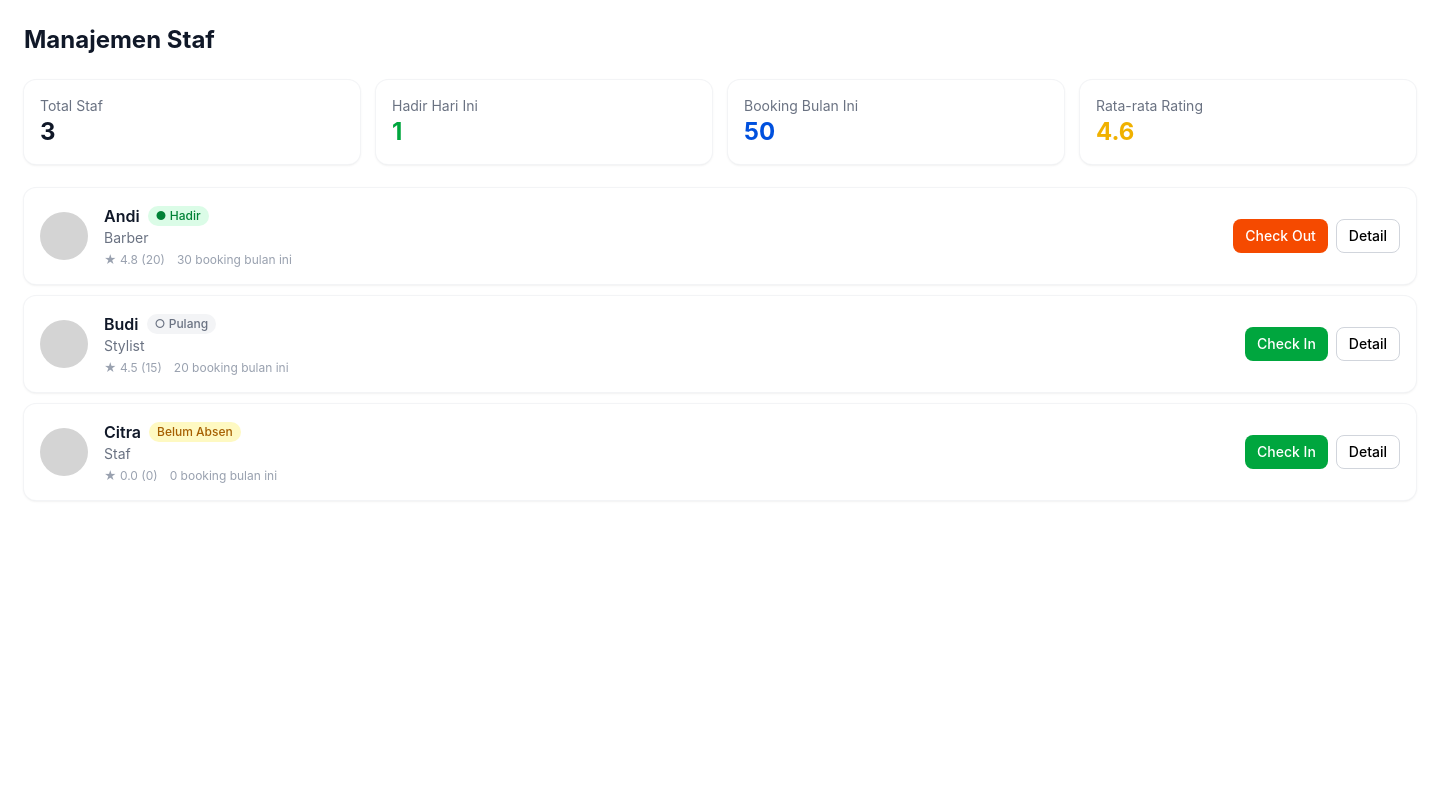
it: StaffManagementSuitePage › detail button collapses on second click
This screenshot has width=1440, height=810.
Check: the heading "Andi" is shown, box [104,204,140,228]
Click the button "Detail" in the row of "● Hadir".
click(1368, 236)  # box [1336,219,1400,253]
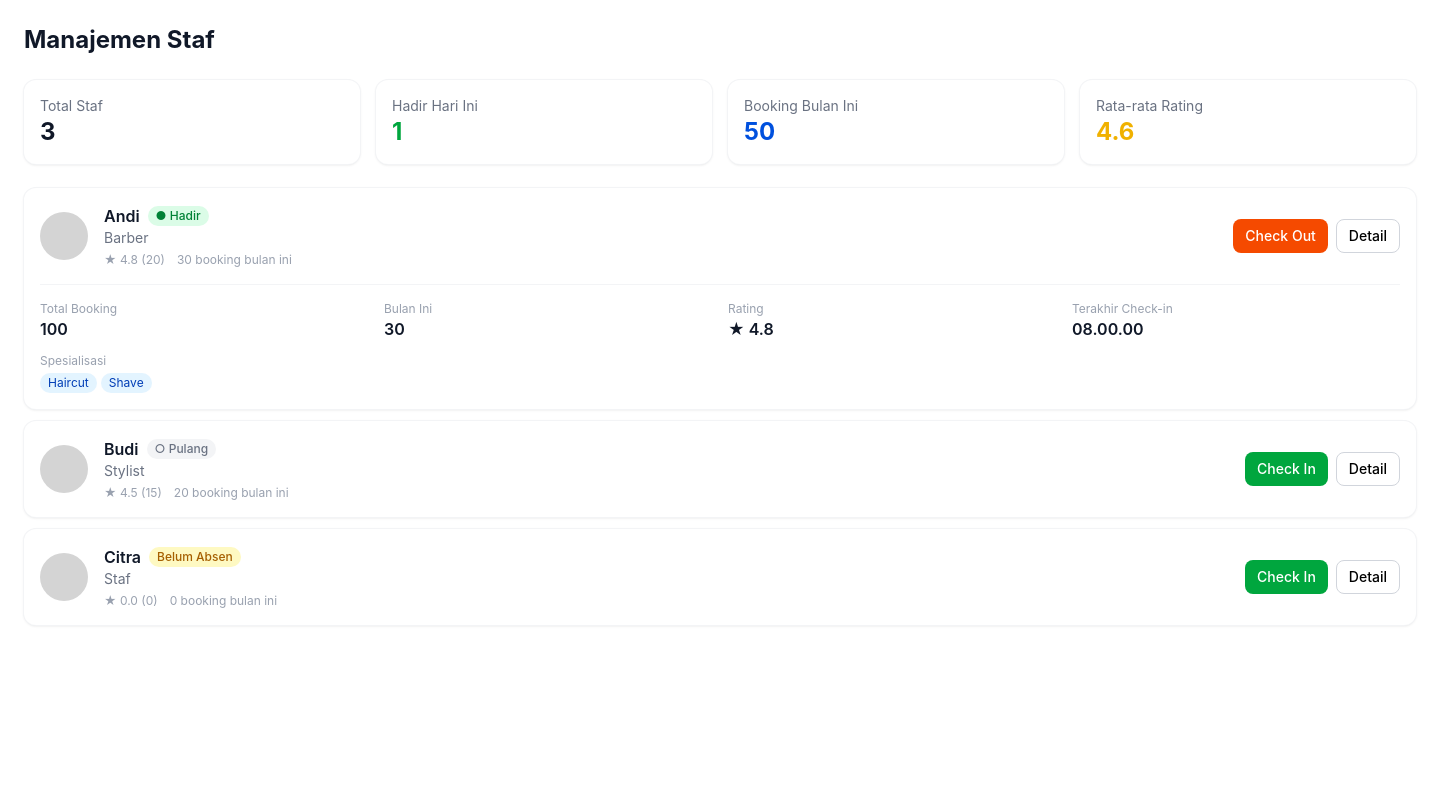
Check: the text "Total Booking" is shown, box [40,301,117,316]
Click the button "Detail" in the row of "● Hadir".
click(1368, 236)  # box [1336,219,1400,253]
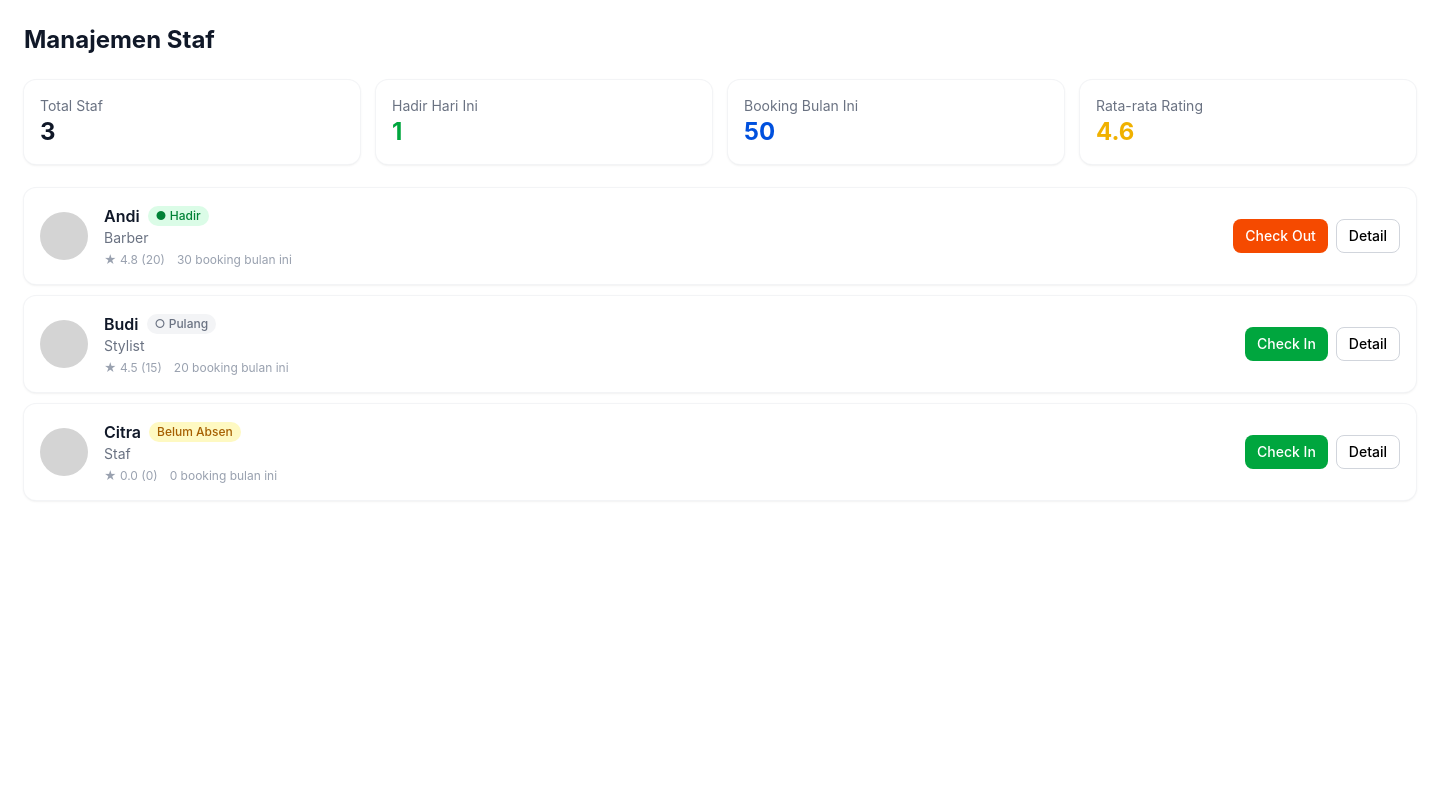
Check: the text "Total Booking" is gone
